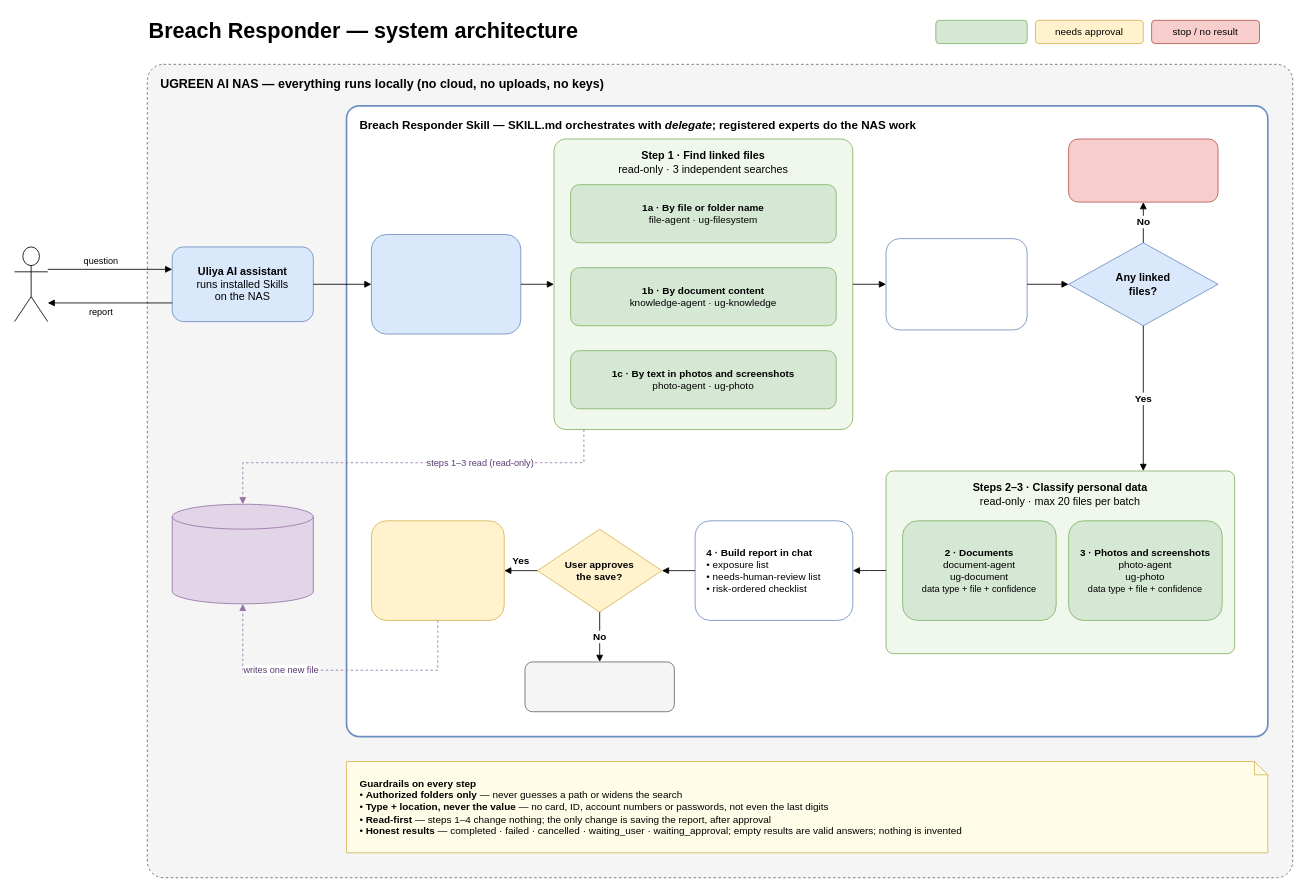
Image size: 1307x892. Some labels were removed from this diagram. The shapes that lost their labels are listed below. From the top down, each one's centre as x and y in pixels, then its label:
point (981, 32): read-only
point (1143, 170): Say “no files found” and stop never widen the scope
point (31, 284): User
point (446, 284): Input • Company + other names • Authorized folders • Time range (optional)
point (956, 284): Merge + de-duplicate evidence list, with how each file was found
point (242, 553): NAS storage authorized folders only
point (437, 570): 5 · Save report as a new file knowledge-agent ug-knowledge never overwrites
point (599, 686): Keep report in chat save nothing
